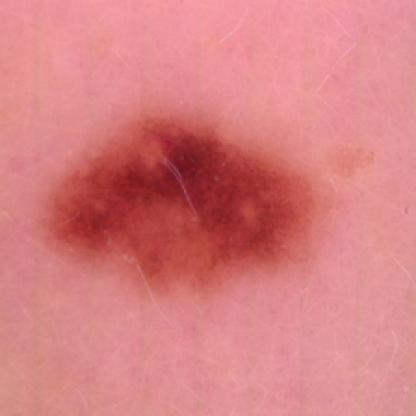benign: (50, 106, 349, 293)
